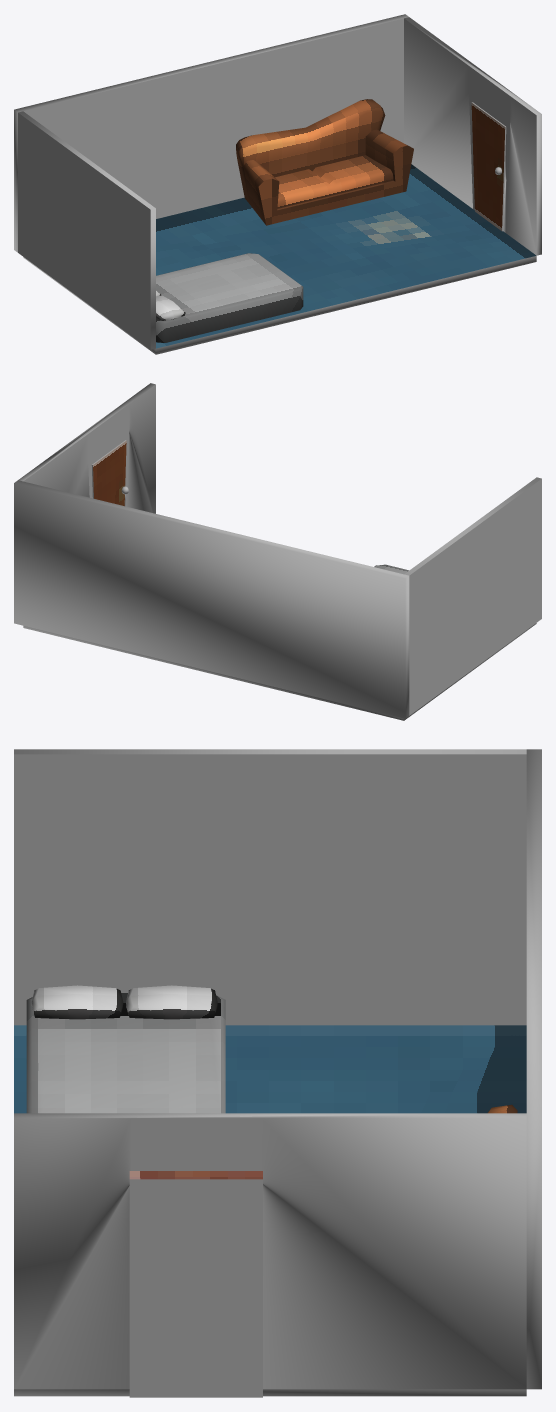
The model's file is RoomImport.fbx.
The picture shows the model from 3 angles, top to bottom: view 1: azimuth 30°, elevation 25°; view 2: azimuth 150°, elevation 25°; view 3: azimuth 270°, elevation 25°; orthographic projection. The views are drawn at different scales.
Parts seen in each view (by area): view 1: Room, Sofa, Mattress, Door; view 2: Room, Door; view 3: Room, BrickWall, Mattress.
Part boxes in pixels (bbox=[...]): Room: bbox=[14, 14, 541, 354]; Sofa: bbox=[236, 99, 413, 225]; Mattress: bbox=[156, 253, 303, 342]; Door: bbox=[471, 102, 506, 231]; Room: bbox=[14, 383, 541, 720]; Door: bbox=[91, 440, 128, 505]; Room: bbox=[14, 749, 541, 1396]; BrickWall: bbox=[129, 1171, 262, 1397]; Mattress: bbox=[26, 985, 225, 1113].
Size of the model in its own units: 13.93 by 4.87 by 8.24.
